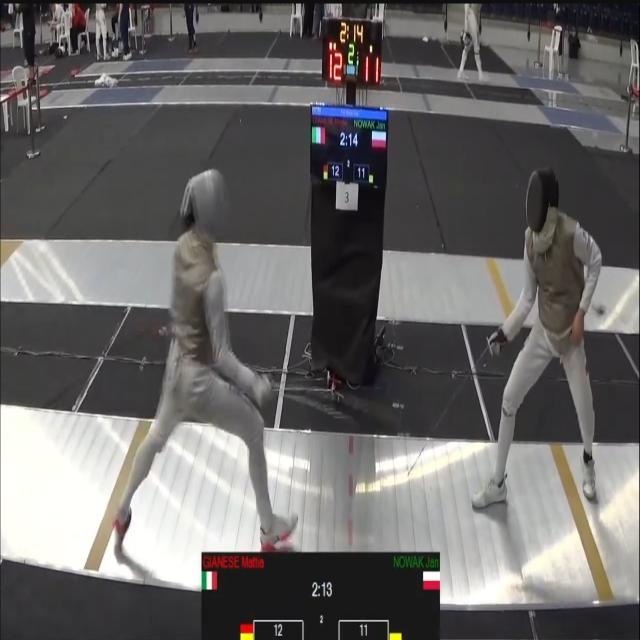fencer: (111, 172, 301, 551), (480, 138, 615, 547)
overlayLeft: (201, 553, 310, 604)
overlayRight: (336, 553, 441, 601)
scoreLeft: (257, 623, 299, 640)
scoreRight: (342, 623, 382, 640)
